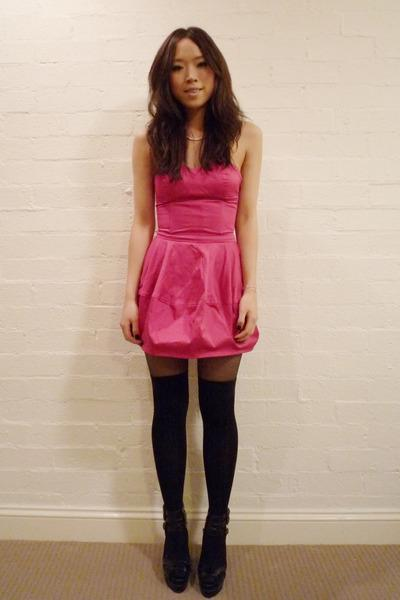dress: (132, 157, 258, 359)
shoe: (163, 535, 226, 597)
